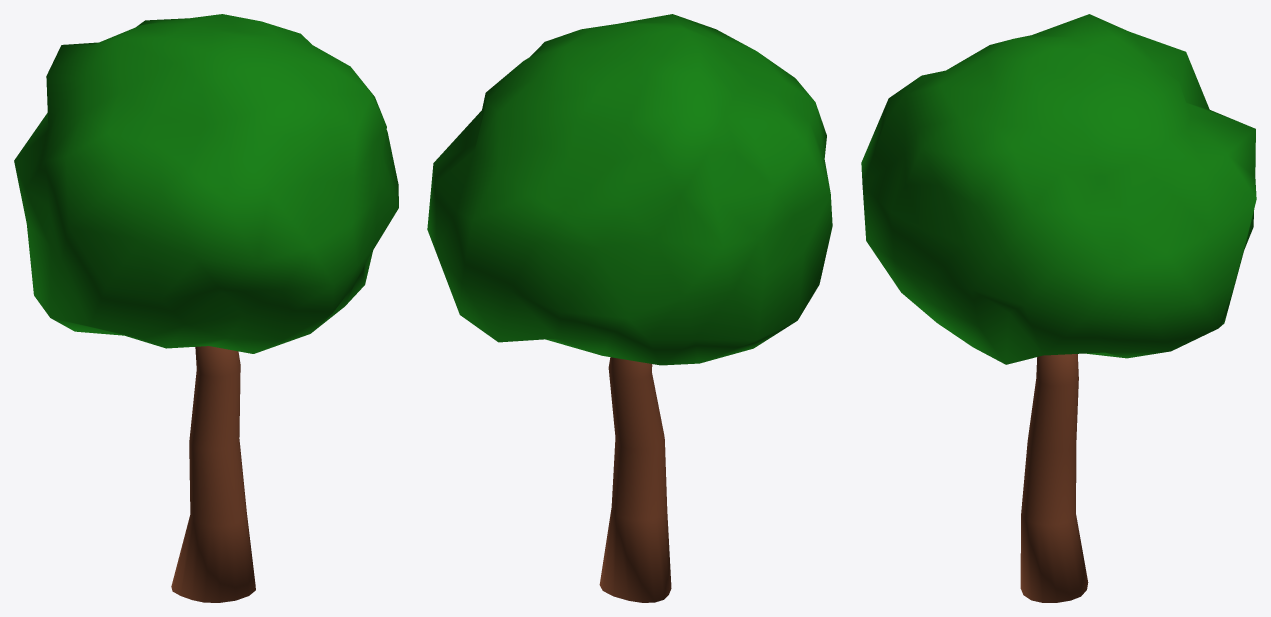
The model's file is tree2.fbx.
3 renders of one model, left to right at view 1: azimuth 30°, elevation 25°; view 2: azimuth 150°, elevation 25°; view 3: azimuth 270°, elevation 25°, orthographic. The views are drawn at different scales.
Parts seen in each view (by area): view 1: Cylinder; view 2: Cylinder; view 3: Cylinder.
Part boxes in pixels (box(x1,y1,x2,y2)): Cylinder: box(14, 14, 398, 602); Cylinder: box(427, 14, 832, 602); Cylinder: box(861, 14, 1256, 602).
Size of the model in its own units: 2.51 by 3.89 by 2.59.
